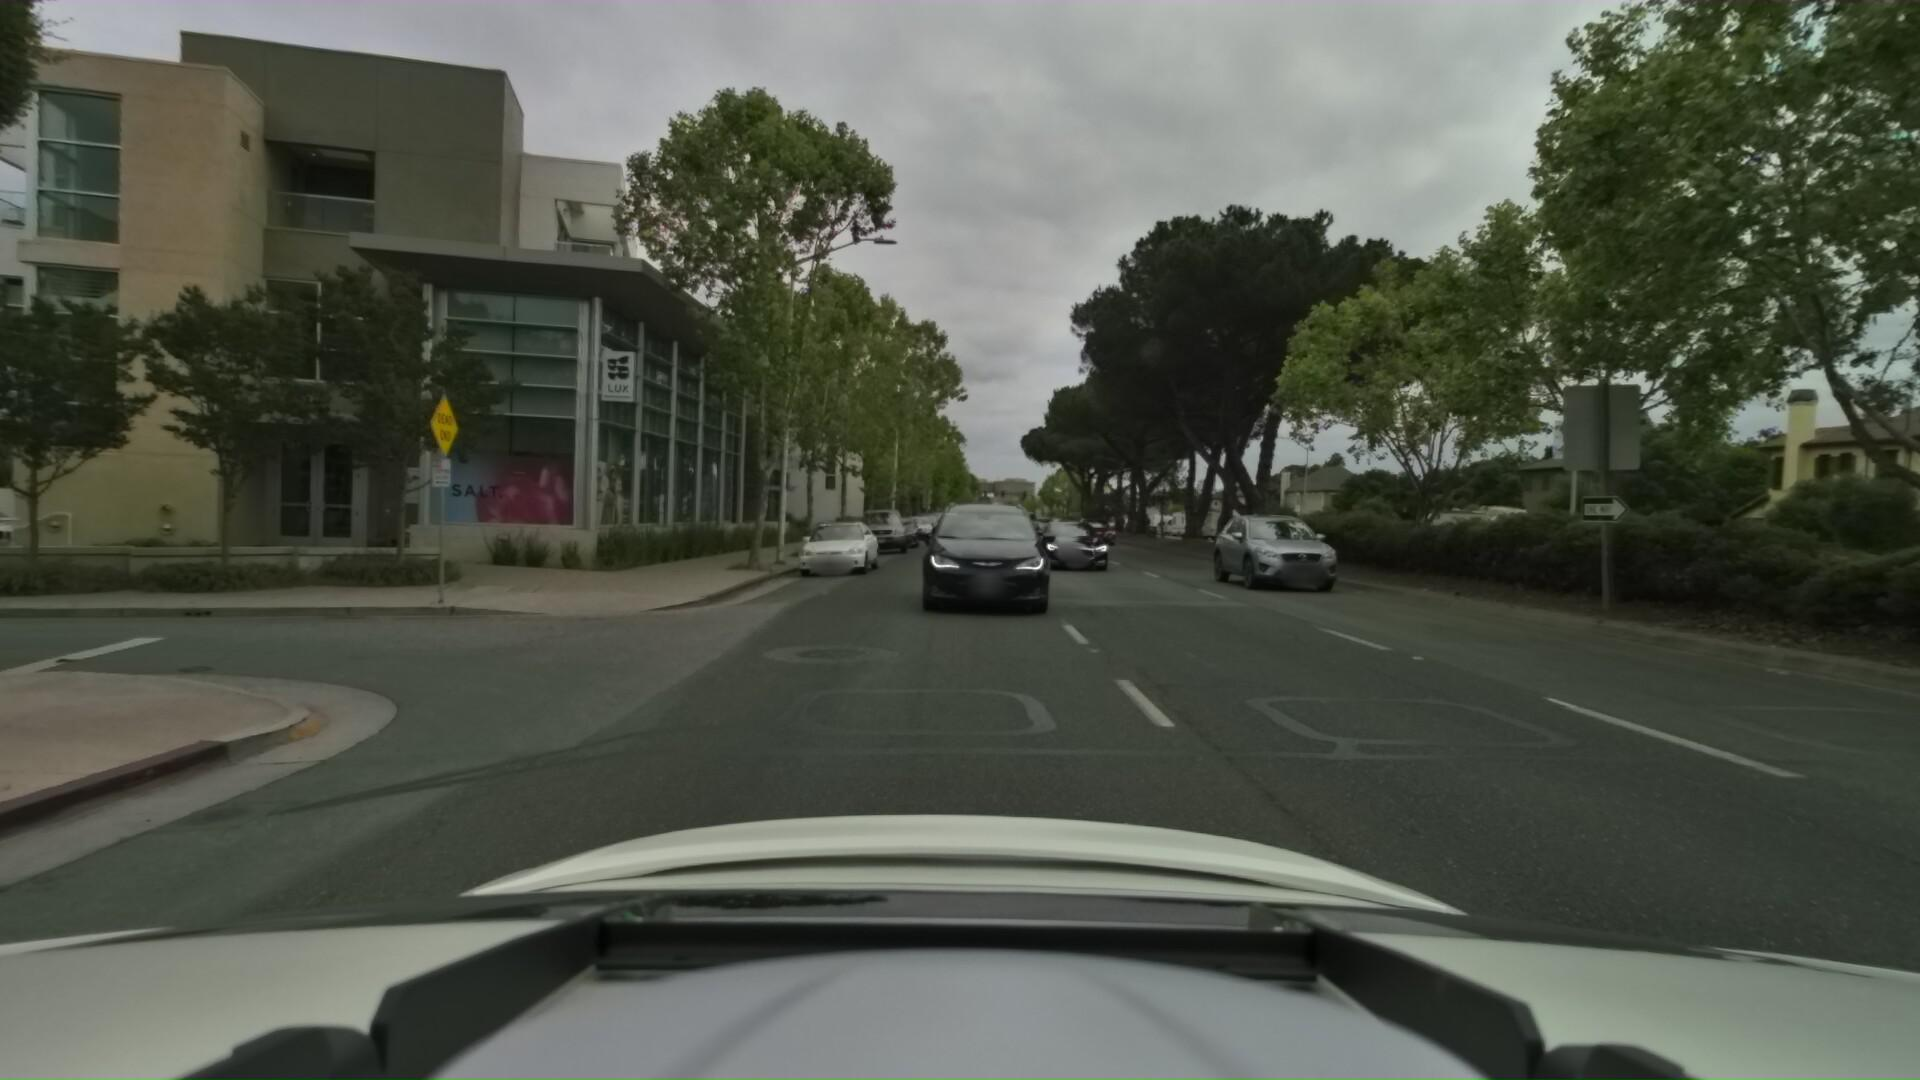car: (902, 485, 1069, 620), (1193, 500, 1331, 589), (1799, 533, 1920, 620), (795, 512, 889, 578), (1031, 506, 1109, 566), (860, 501, 910, 554), (1069, 502, 1120, 542), (878, 509, 923, 546), (1002, 502, 1039, 534), (914, 505, 942, 534), (903, 509, 935, 534)
other_vehicle: (1414, 496, 1544, 566)
